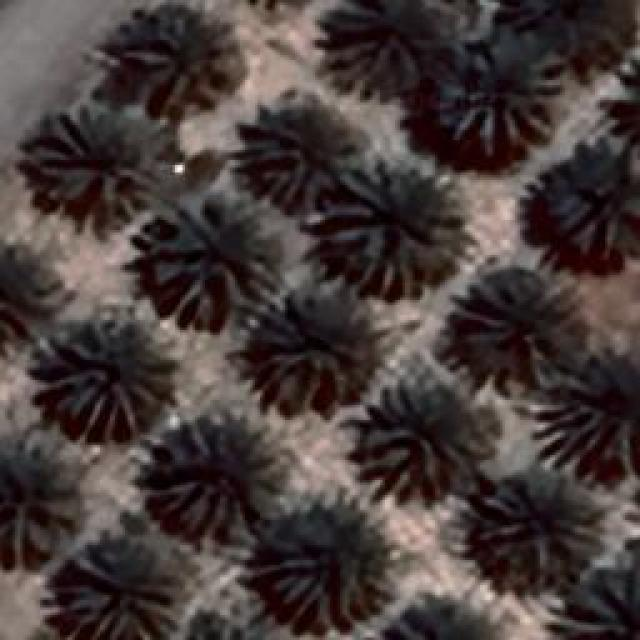PalmTree: (120, 61, 443, 620), (317, 155, 465, 300), (137, 190, 285, 330), (350, 370, 498, 508), (147, 410, 290, 540), (28, 100, 170, 228), (38, 307, 178, 435), (252, 514, 392, 628), (435, 35, 563, 155), (123, 31, 580, 61), (528, 350, 638, 472), (530, 137, 635, 260), (258, 288, 362, 412), (475, 462, 603, 560), (52, 542, 178, 638), (441, 274, 571, 366), (125, 15, 247, 110), (309, 0, 422, 102), (245, 95, 340, 195), (0, 455, 85, 560), (544, 560, 638, 638), (165, 604, 294, 640), (0, 250, 48, 335), (616, 30, 640, 164), (161, 620, 290, 640), (627, 30, 640, 158), (221, 0, 331, 10)
